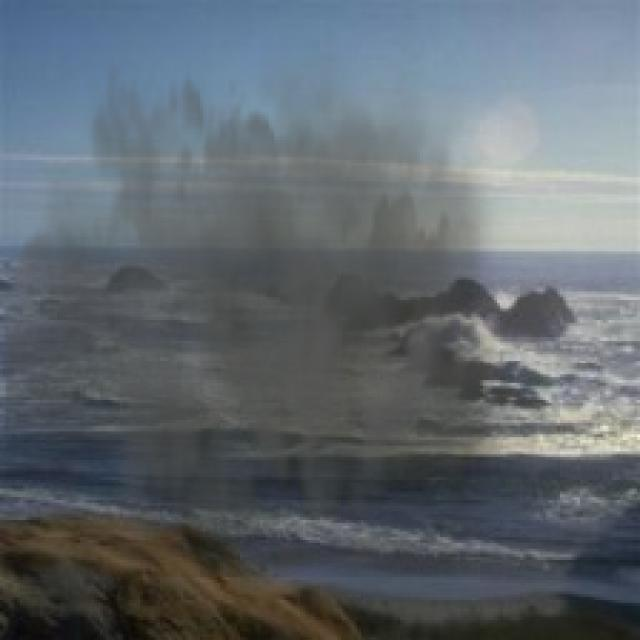Smoke: (6, 11, 526, 578)
